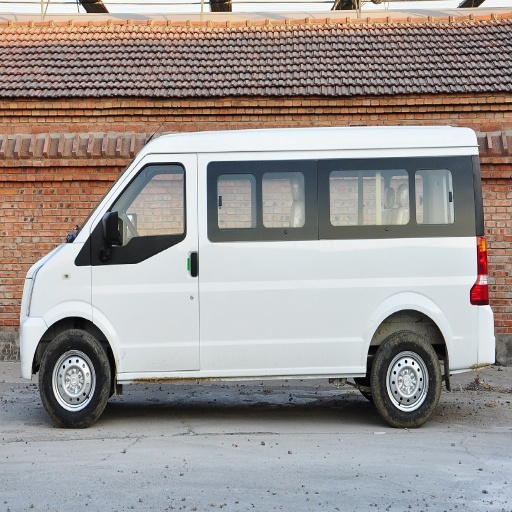trunk: (286, 241, 486, 371), (219, 280, 272, 324)
